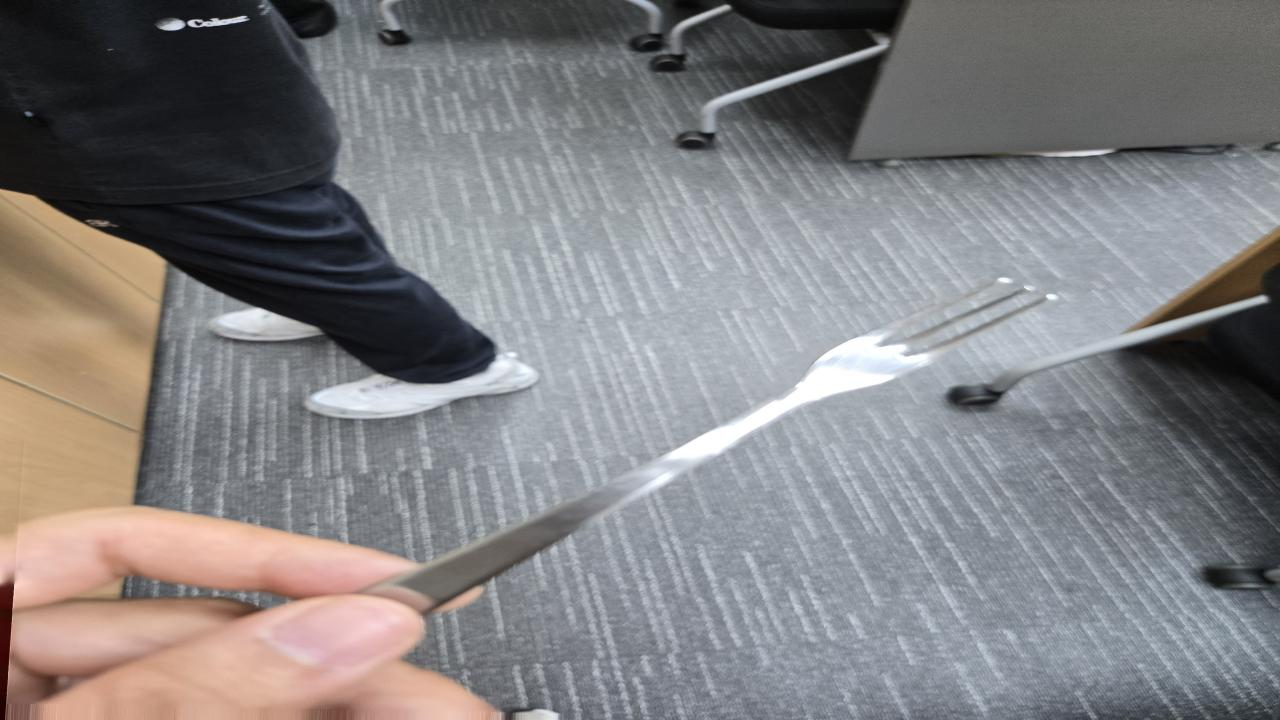fork: (367, 276, 1062, 612)
